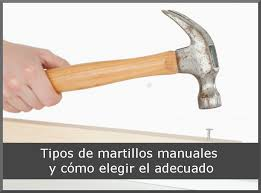martillu: (55, 5, 225, 112)
